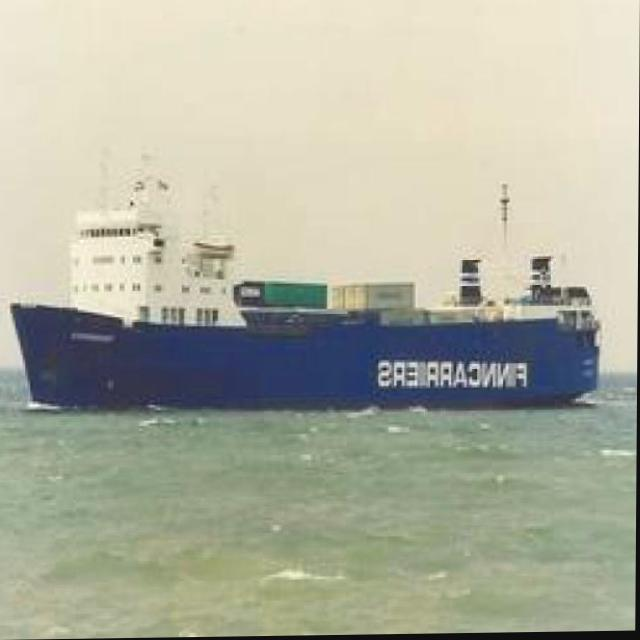ship2: (8, 201, 602, 416)
